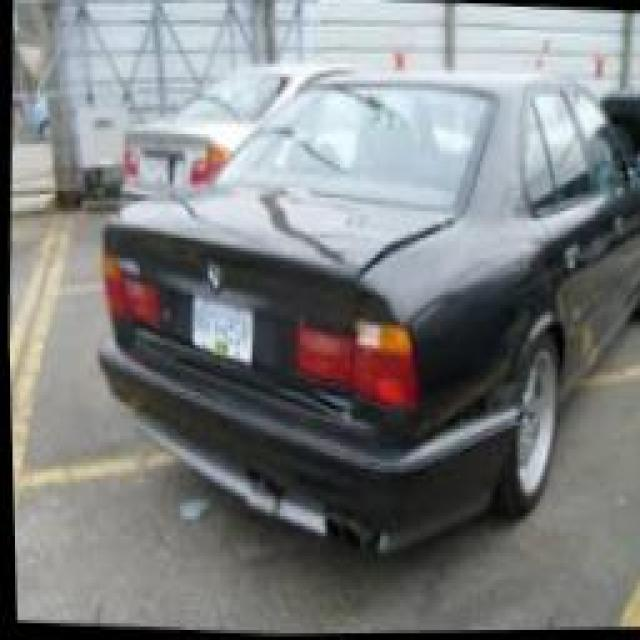rapairable: (419, 376, 529, 449)
